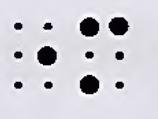dot_5: (14, 21, 58, 90)
two_cell_alphabet_mabuti: (80, 17, 129, 94)
